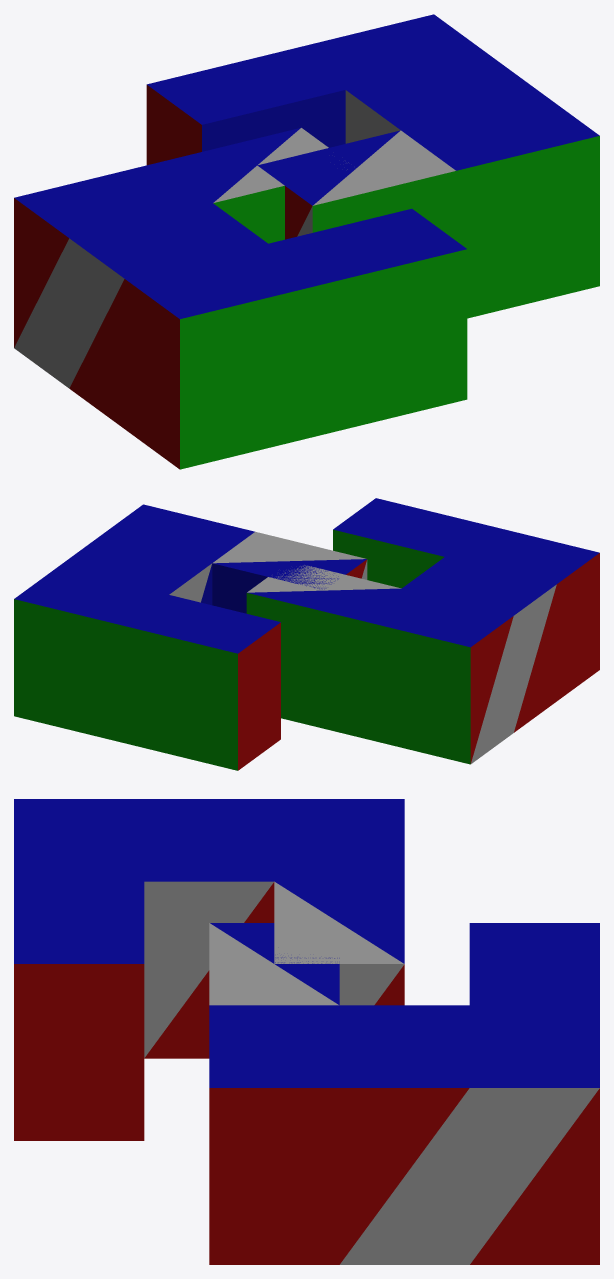
The model's file is concave.obj.
The picture shows the model from 3 angles, top to bottom: view 1: azimuth 30°, elevation 25°; view 2: azimuth 150°, elevation 25°; view 3: azimuth 270°, elevation 25°; orthographic projection. The views are drawn at different scales.
Visible parts, largest first — view 1: concave_a, concave_b; view 2: concave_a, concave_b; view 3: concave_b, concave_a.
Part boxes in pixels (x1,y1,x2,y2): concave_a: [14, 127, 467, 469]; concave_b: [146, 14, 599, 318]; concave_a: [246, 498, 599, 764]; concave_b: [14, 504, 367, 770]; concave_b: [209, 923, 599, 1264]; concave_a: [14, 799, 404, 1140].
Bounding box in the file's own units: 3.5 × 1 × 3.
